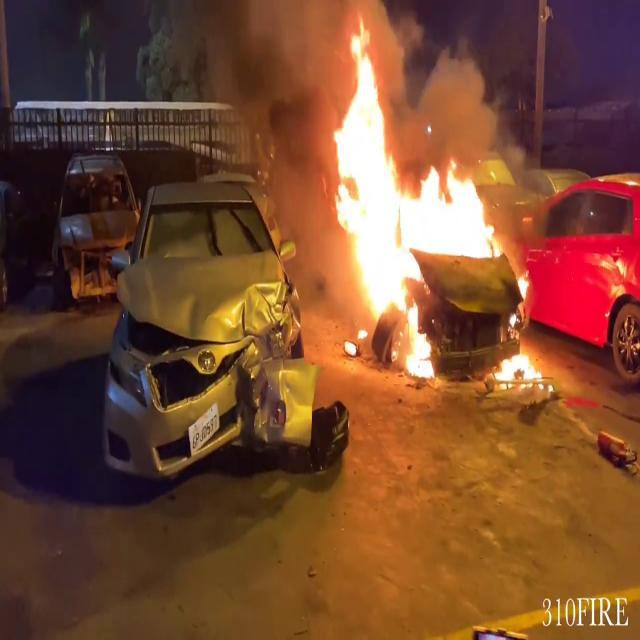Fire: (321, 13, 507, 376), (489, 340, 550, 392)
Smoke: (172, 1, 346, 194)
